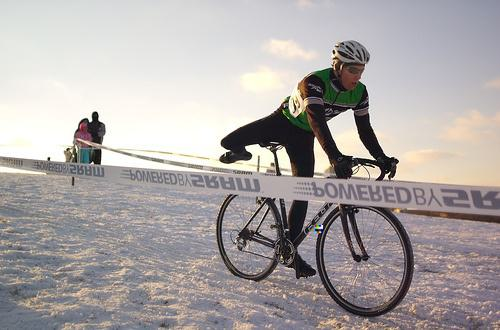car: (214, 143, 424, 315)
person: (217, 38, 398, 282), (88, 108, 109, 174), (76, 124, 96, 171)
